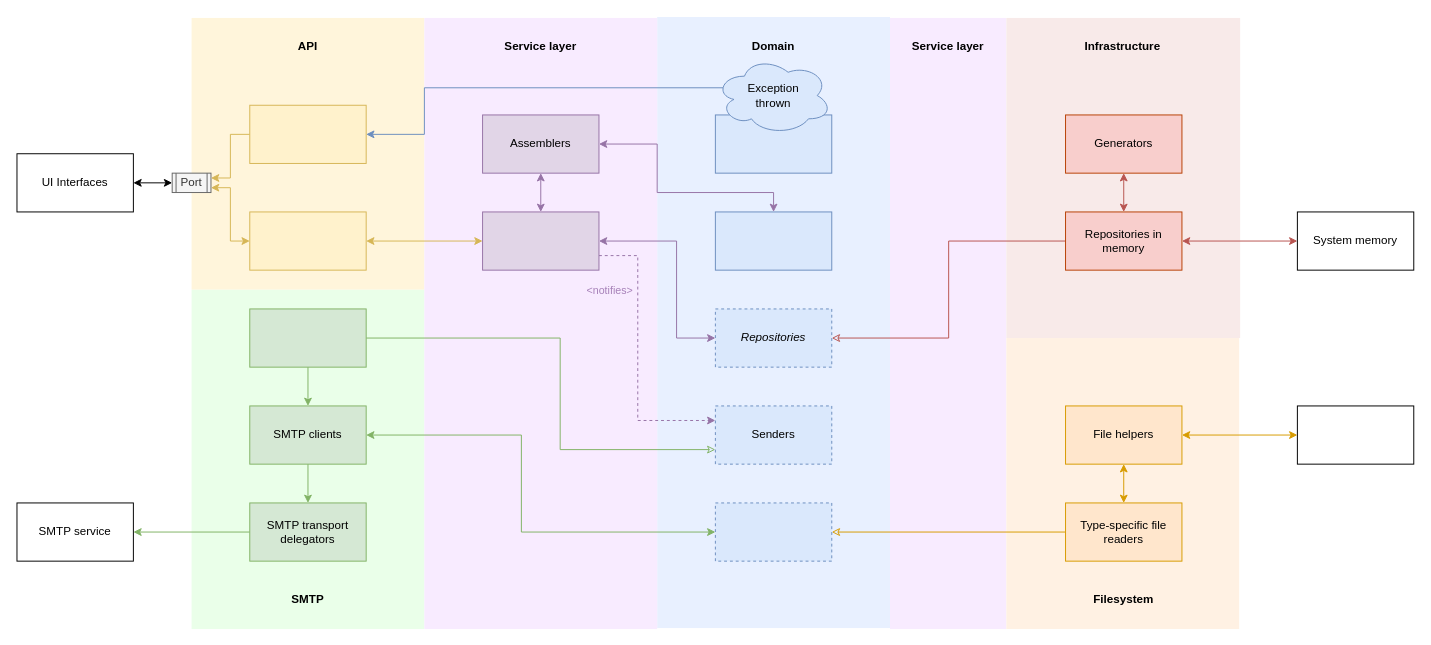
Image size: 1431x645. Some labels were removed from this diagram. Here are the shapes that lost their labels. From the top down, the box of each, then its label:
(249, 104, 366, 163): Exception mappers
(714, 114, 832, 173): Exceptions
(249, 211, 366, 270): Resources
(482, 211, 599, 270): Services
(714, 211, 832, 270): Core domain
(249, 308, 366, 367): SMTP email senders
(1296, 405, 1414, 464): Files
(714, 502, 832, 561): File readers
